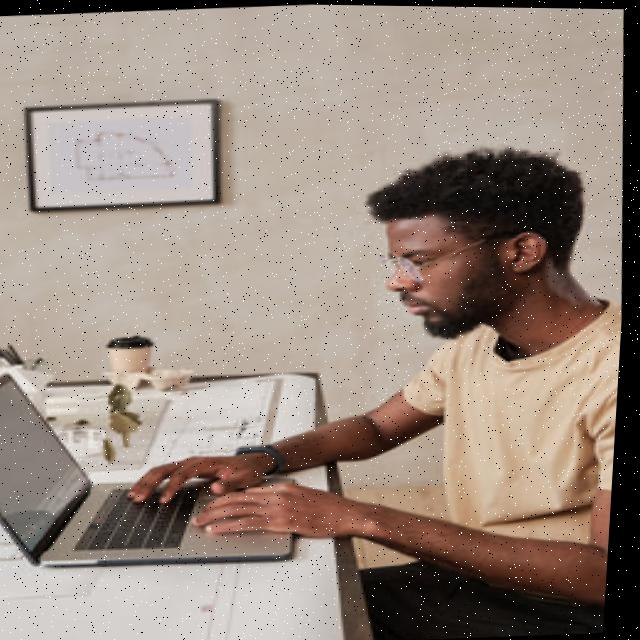notebook-person: (0, 131, 634, 640)
